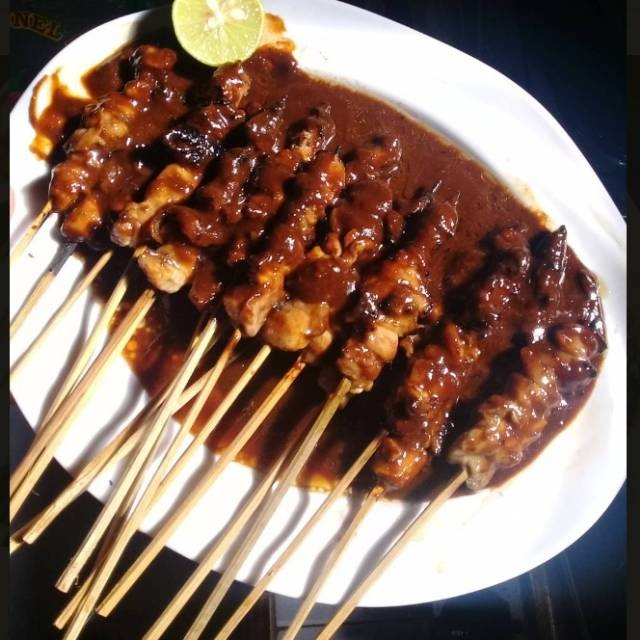sate: (37, 23, 604, 495)
